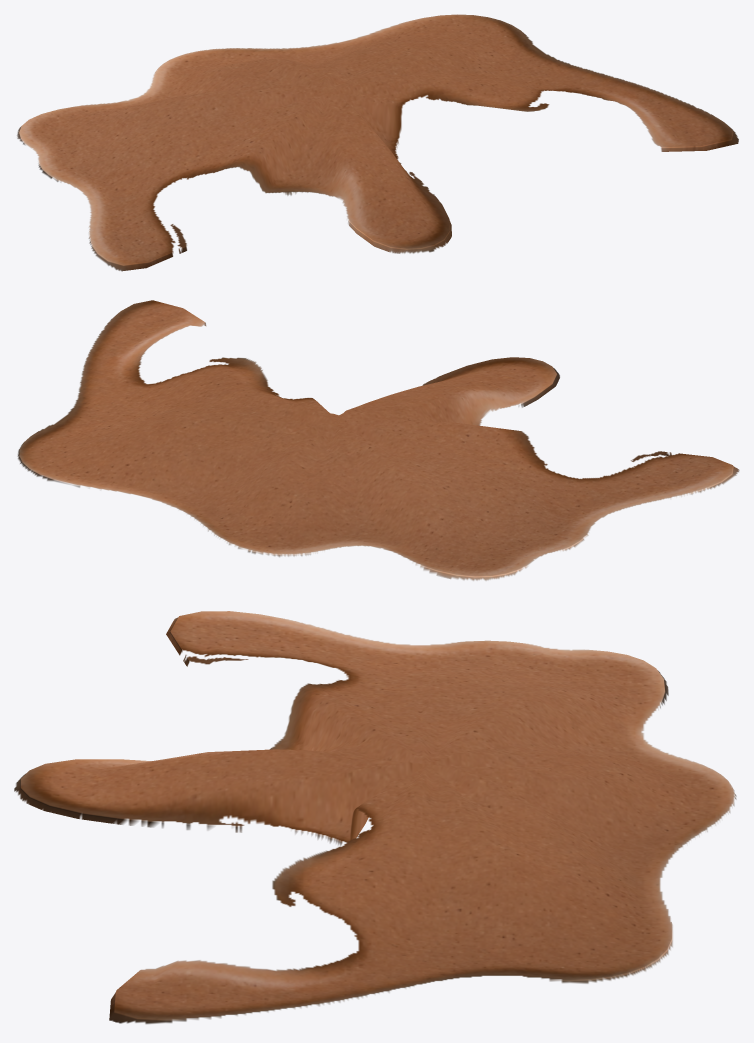
The model's file is dirt_4.glb.
3 views of the same model, one above another, from view 1: azimuth 30°, elevation 25°; view 2: azimuth 150°, elevation 25°; view 3: azimuth 270°, elevation 25° (orthographic). The views are drawn at different scales.
Parts seen in each view (by area): view 1: dirt_4; view 2: dirt_4; view 3: dirt_4.
Boxes of the visible parts, <box> form: dirt_4: <box>17,14,738,271</box>; dirt_4: <box>17,300,739,581</box>; dirt_4: <box>14,611,736,1024</box>.
Bounding box in the file's own units: 0.8676 × 0.0577 × 0.6412.
1 material, 1 textured.
